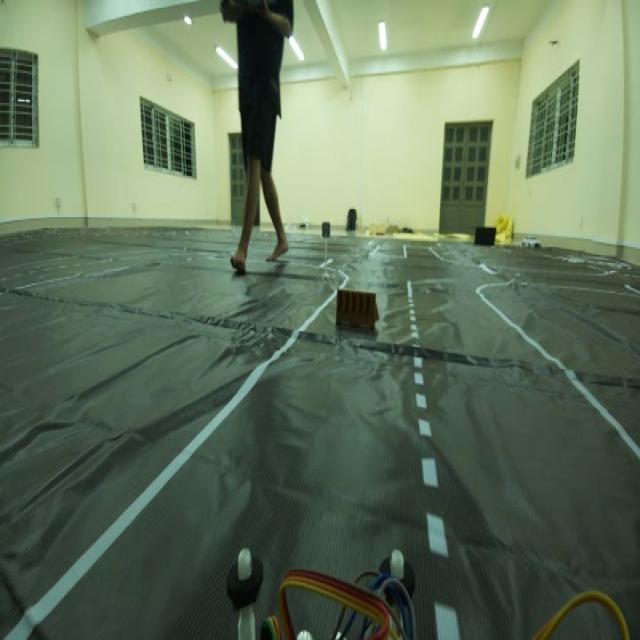roadblock: (329, 277, 383, 347)
